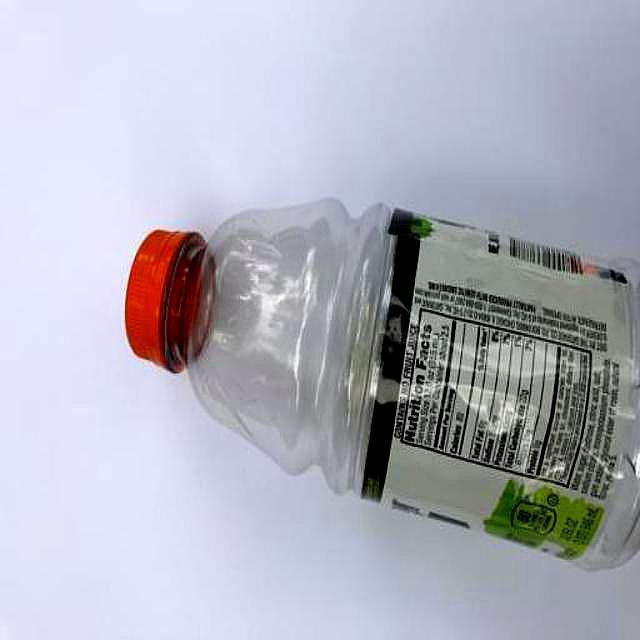Non-biodegradable: (129, 207, 640, 571)
